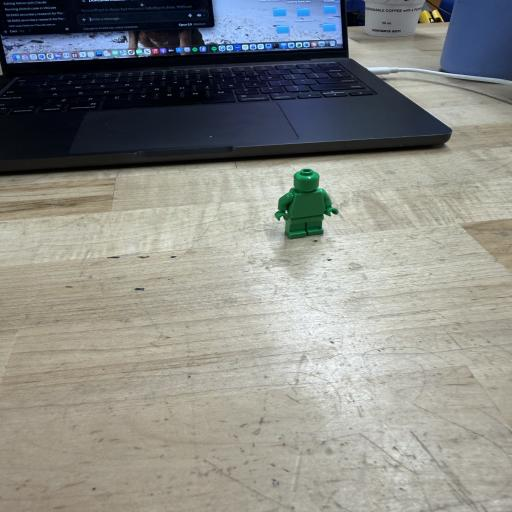green-minifig: (275, 169, 338, 239)
